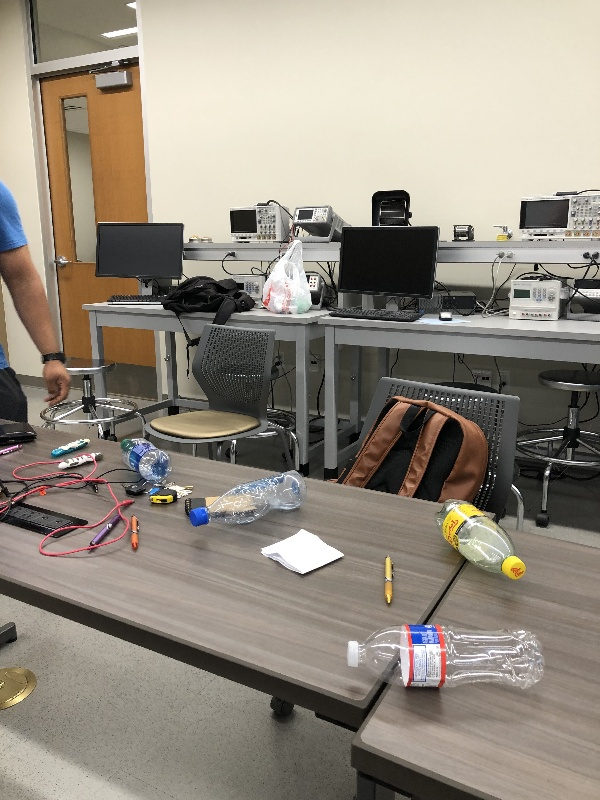bottle: (334, 620, 551, 700), (429, 492, 532, 587), (181, 465, 318, 535), (118, 435, 177, 483)
